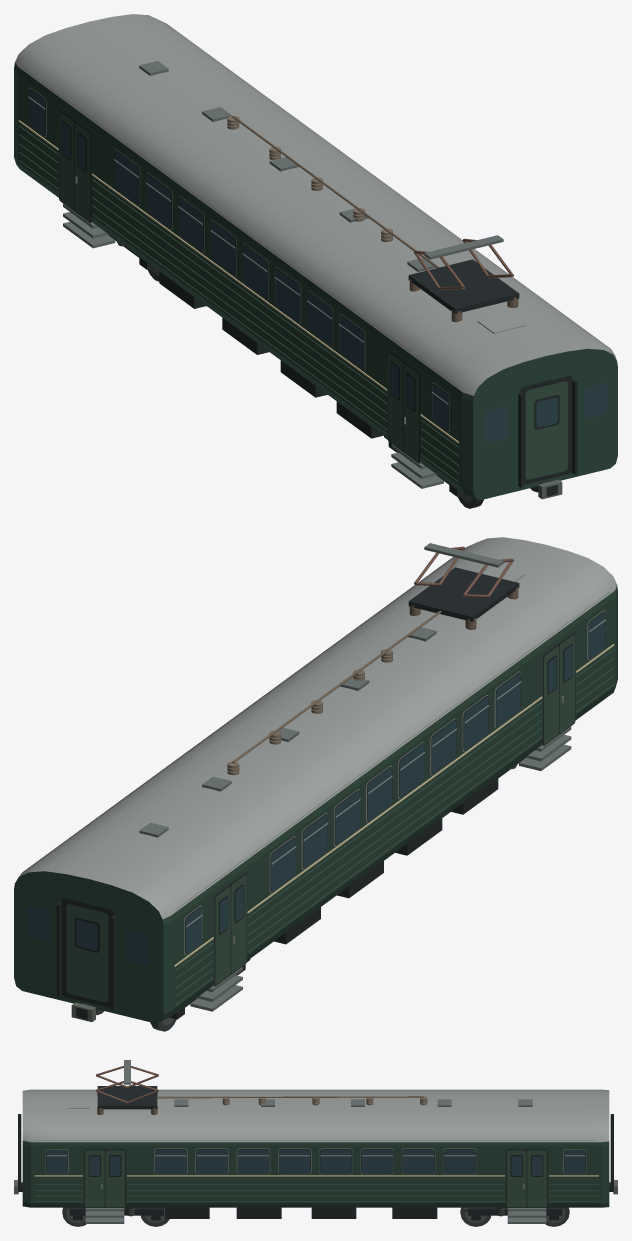
The model's file is er2_motor.glb.
3 renders of one model, top to bottom at view 1: azimuth 30°, elevation 25°; view 2: azimuth 150°, elevation 25°; view 3: azimuth 270°, elevation 25°, orthographic. The views are drawn at different scales.
Visible parts, largest first — view 1: ER2_Motor; view 2: ER2_Motor; view 3: ER2_Motor.
Boxes of the visible parts, x1,y1,x2,y2 form: ER2_Motor: (14,14,617,508); ER2_Motor: (14,537,617,1031); ER2_Motor: (14,1060,617,1226).
Size of the model in its own units: 4.08 by 5.49 by 20.91.
